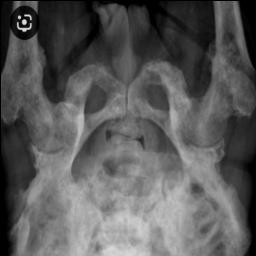cancer: (0, 30, 248, 256)
